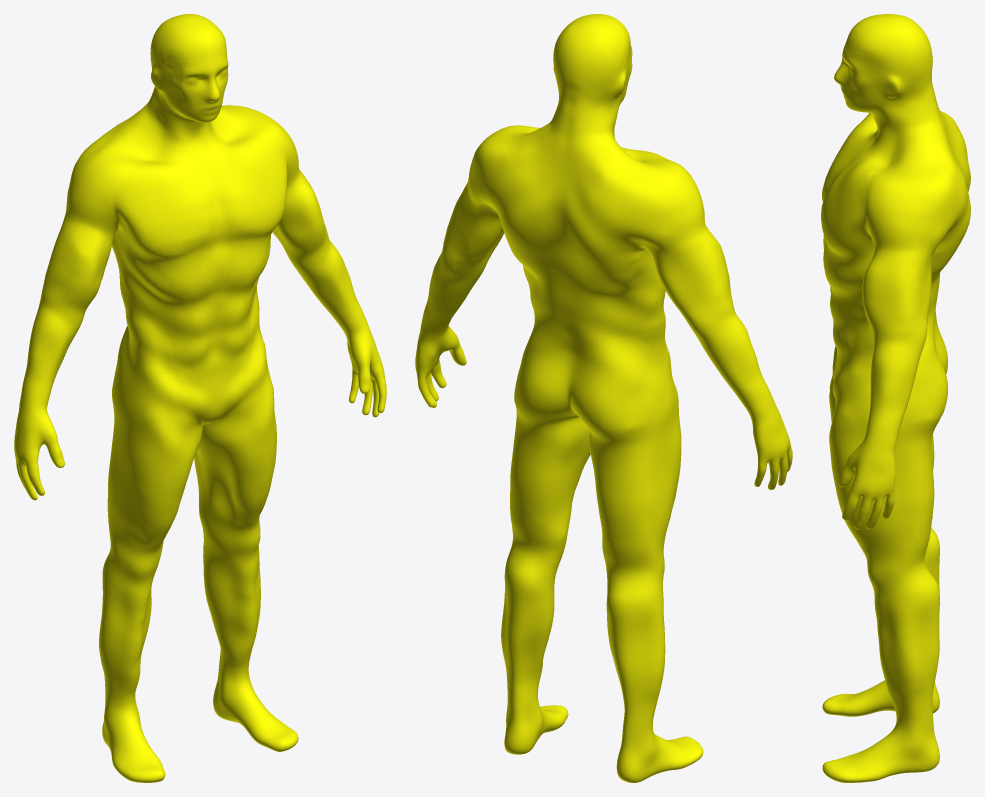
The model's file is muschelmann.gltf.
3 renders of one model, left to right at view 1: azimuth 30°, elevation 25°; view 2: azimuth 150°, elevation 25°; view 3: azimuth 270°, elevation 25°, orthographic.
Parts seen in each view (by area): view 1: humanBody; view 2: humanBody; view 3: humanBody.
Part boxes in pixels (x1,y1,x2,y2): humanBody: [14, 14, 386, 782]; humanBody: [415, 14, 792, 782]; humanBody: [821, 14, 970, 782].
Bounding box in the file's own units: 0.9519 × 1.83 × 0.3415.
Materials: 1 (1 with a texture image).
